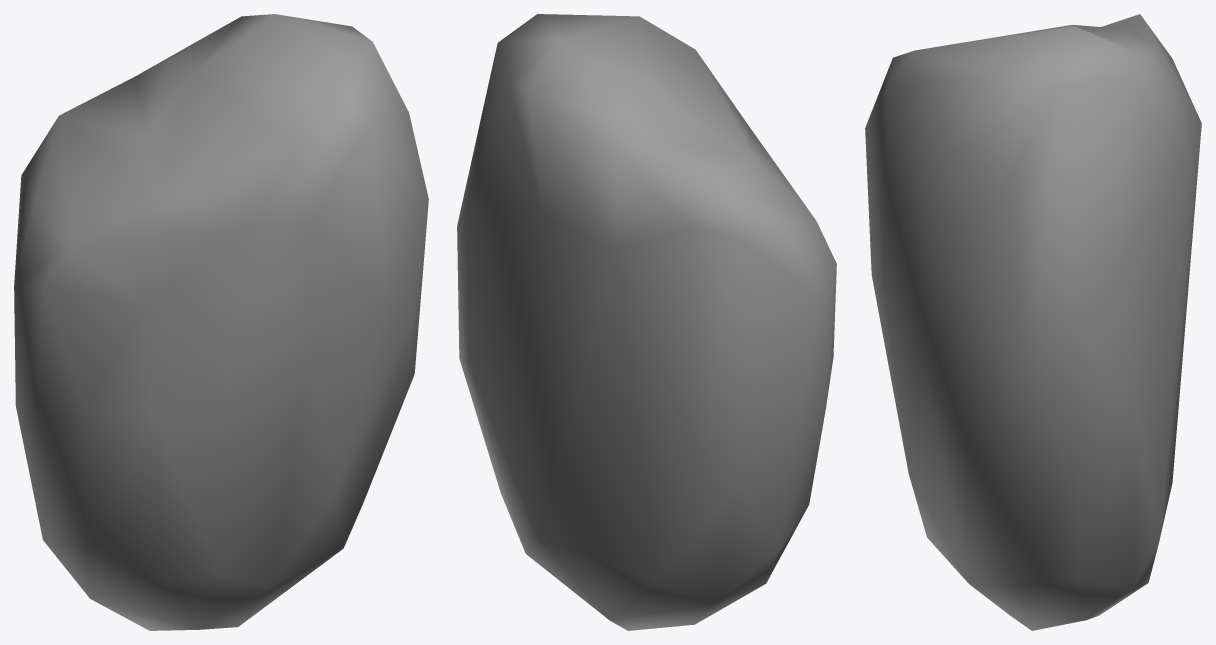
The model's file is SoftRock_02.fbx.
The picture shows the model from 3 angles, left to right: view 1: azimuth 30°, elevation 25°; view 2: azimuth 150°, elevation 25°; view 3: azimuth 270°, elevation 25°; orthographic projection. The views are drawn at different scales.
Parts seen in each view (by area): view 1: SoftRock_02; view 2: SoftRock_02; view 3: SoftRock_02.
Part boxes in pixels (left/top/right/bottom): SoftRock_02: left=14, top=14, right=428, bottom=630; SoftRock_02: left=457, top=14, right=836, bottom=630; SoftRock_02: left=865, top=14, right=1201, bottom=630.
Bounding box in the file's own units: 65.27 × 94.87 × 45.76.
